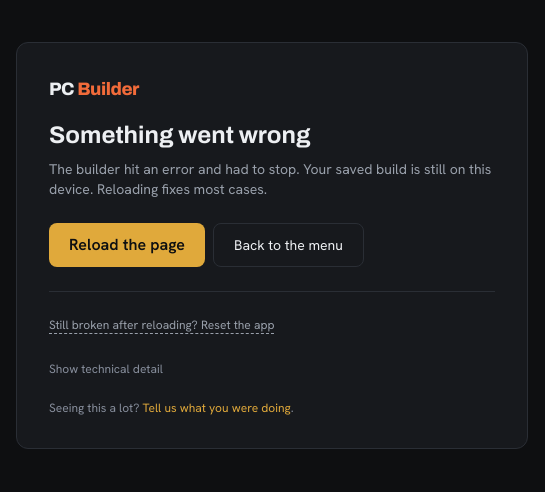
ErrorBoundary › surfaces the error message for a bug report
Click the button "Show technical detail".
click(106, 368)  # box [49,360,163,376]
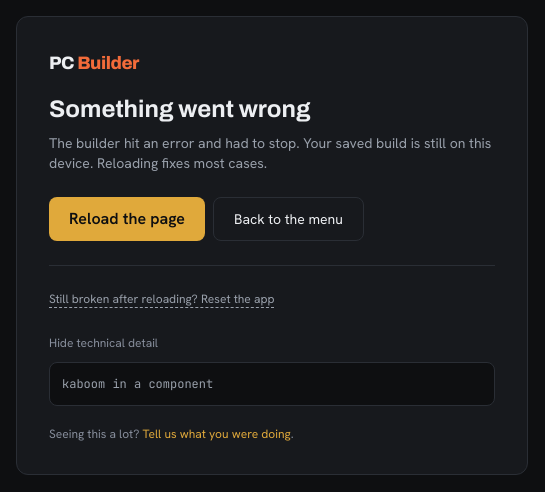
Check: the text "kaboom in a component" is shown, box [49,362,495,406]
